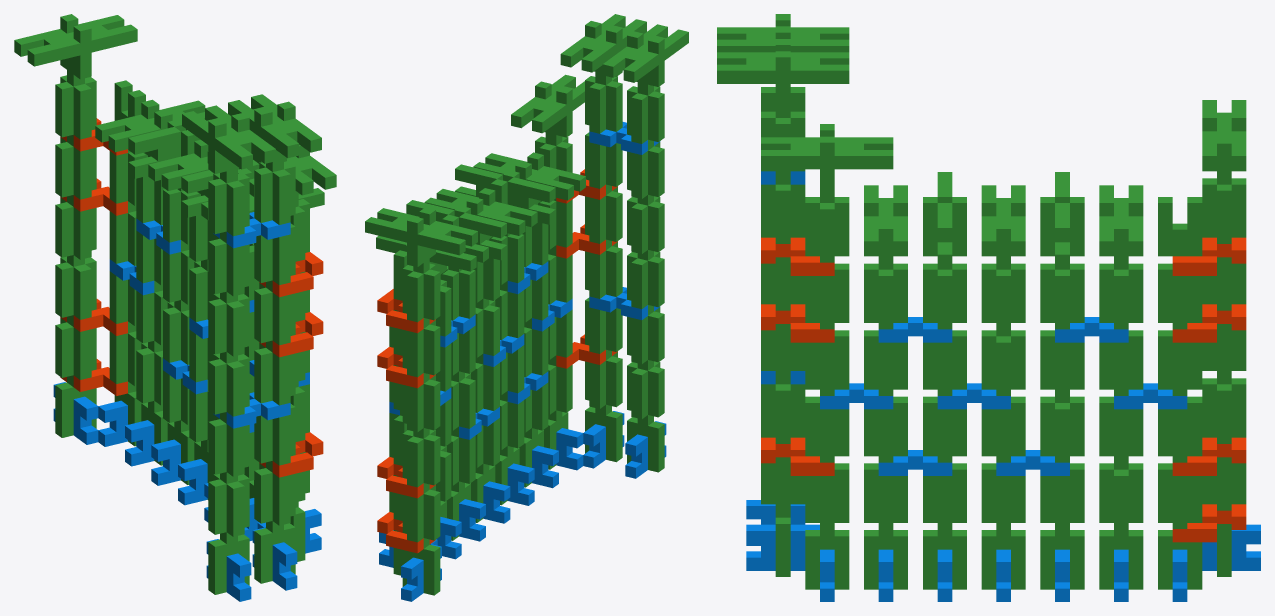
3 views of the same model, side by side, from view 1: azimuth 30°, elevation 25°; view 2: azimuth 150°, elevation 25°; view 3: azimuth 270°, elevation 25° (orthographic). The views are drawn at different scales.
Parts seen in each view (by area): view 1: H_SIM (×53), X_SIM (×13), L_SIM (×7); view 2: H_SIM (×60), X_SIM (×17), L_SIM (×7); view 3: H_SIM (×59), X_SIM (×17), L_SIM (×7).
Part boxes in pixels (box(x1,y1,x2,y2)): H_SIM (×53): box(14, 14, 336, 594); X_SIM (×13): box(53, 212, 321, 601); L_SIM (×7): box(60, 118, 323, 477); H_SIM (×60): box(365, 14, 688, 595); X_SIM (×17): box(401, 122, 666, 601); L_SIM (×7): box(377, 169, 617, 553); H_SIM (×59): box(717, 27, 1246, 589); X_SIM (×17): box(746, 317, 1260, 601); L_SIM (×7): box(761, 237, 1246, 542).
Bounding box in the file's own units: 1.69 × 5.07 × 4.81.
